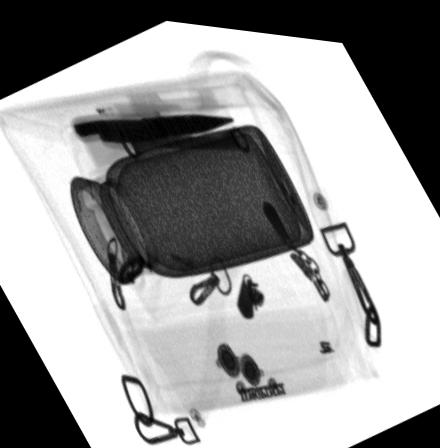Pliers: (69, 108, 236, 144)
Wrench: (117, 122, 248, 159)
